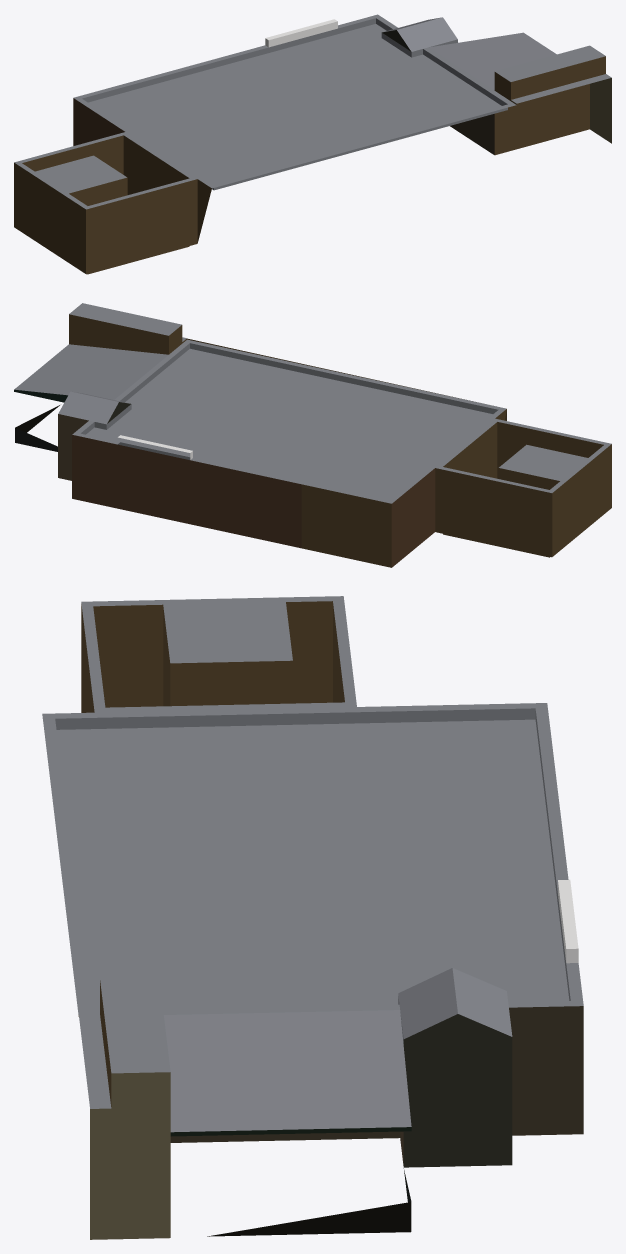
File: applebees-neighborhood-grill-bar.glb
3 renders of one model, top to bottom at view 1: azimuth 30°, elevation 25°; view 2: azimuth 150°, elevation 25°; view 3: azimuth 270°, elevation 25°, orthographic. The views are drawn at different scales.
Parts seen in each view (by area): view 1: LOD0; view 2: LOD0; view 3: LOD0.
Part boxes in pixels (left/top/right/bottom): LOD0: left=14, top=14, right=611, bottom=274; LOD0: left=14, top=303, right=611, bottom=567; LOD0: left=42, top=596, right=583, bottom=1239.
Size of what is drawn, in the model's own units: 45.13 by 7.06 by 20.03.
Materials: 2 (2 with a texture image).
